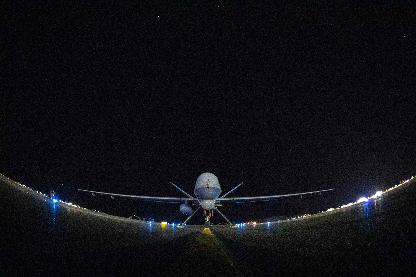MQ9: (78, 171, 335, 227)
